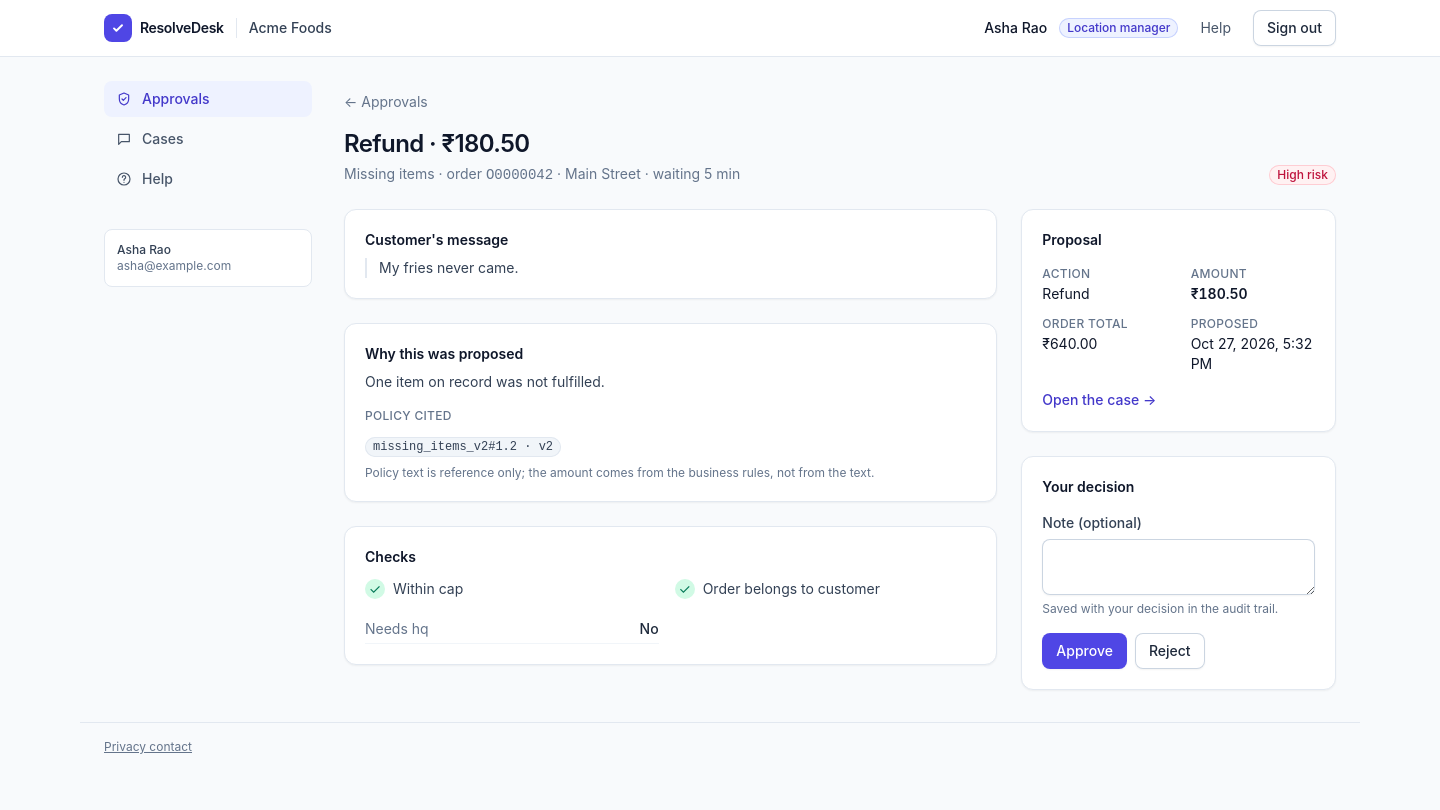
Test case: approval detail › explains a 403 as needing a senior approver
Expected: the text "My fries never came." is shown, top-left (365, 258), bottom-right (976, 278)
Click the button "Approve": coordinates (1085, 651) top-left (1042, 633), bottom-right (1127, 669)
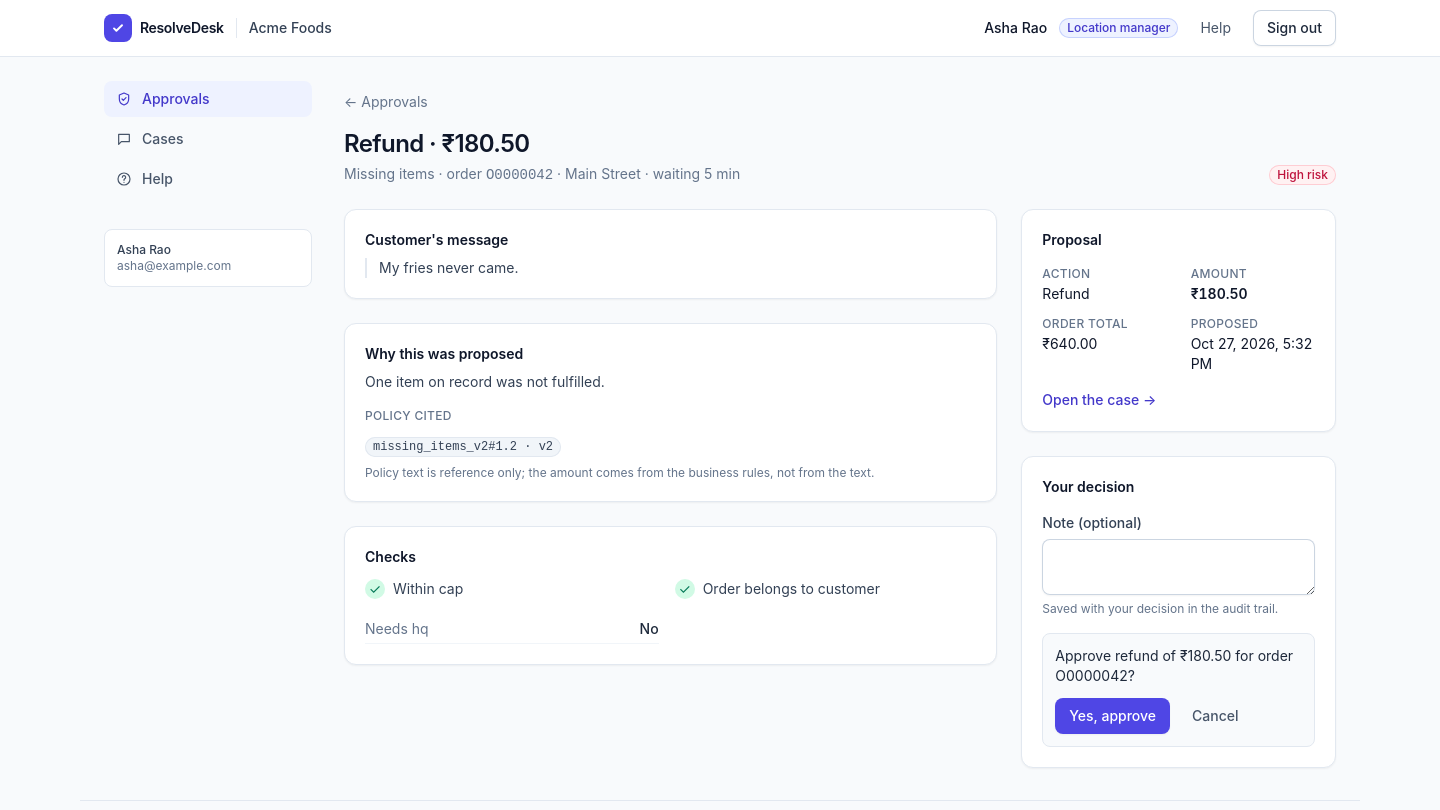
Expected: the element named "Confirm decision" shows "₹180.50", top-left (1055, 647), bottom-right (1293, 684)
Click the button "Yes, approve": coordinates (1113, 716) top-left (1055, 698), bottom-right (1170, 734)
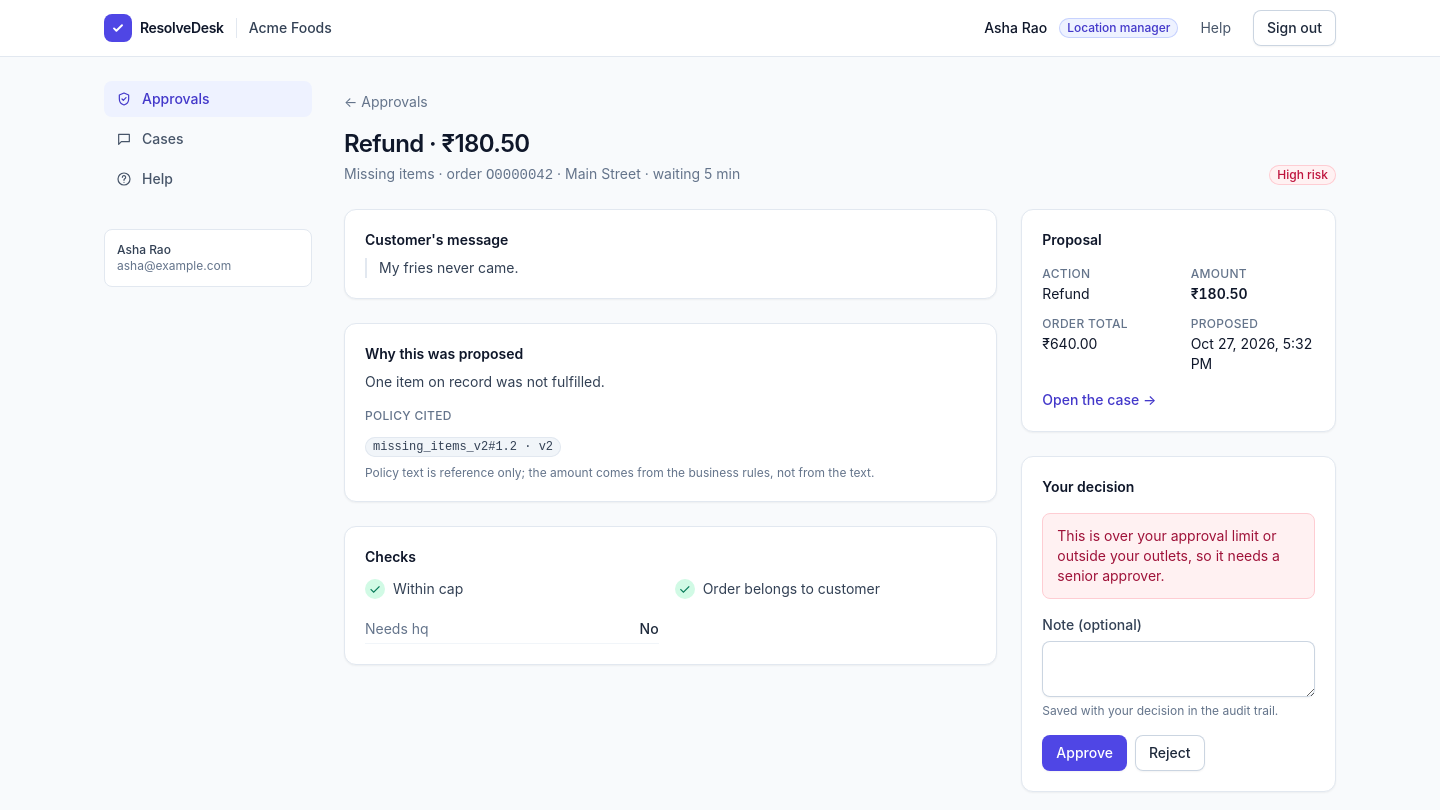
Expected: the message shows "needs a senior approver", top-left (1057, 527), bottom-right (1280, 584)
